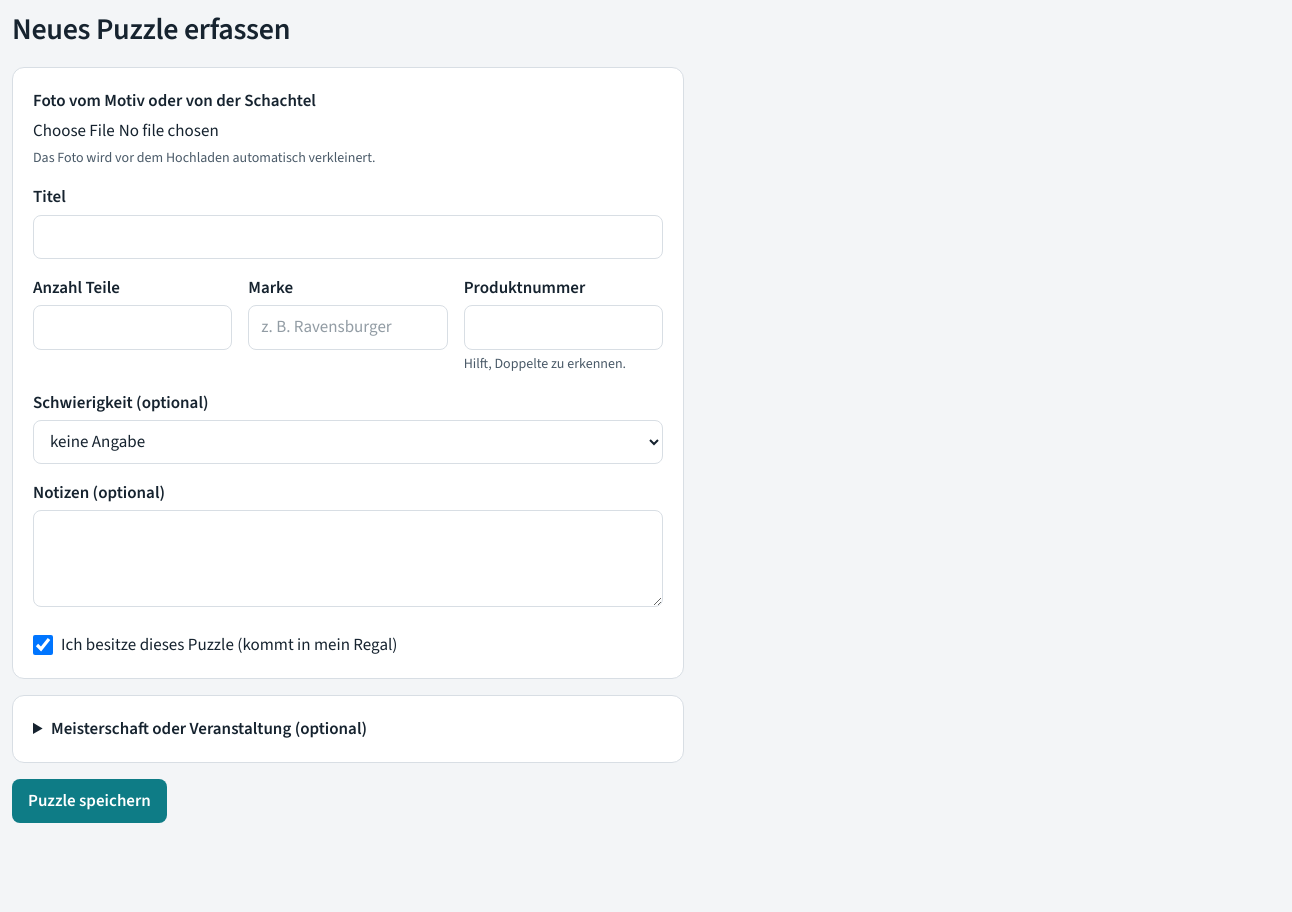
Scenario: Seiten (Rauchtest) › Neues Puzzle: bei ähnlichem Treffer erscheint die Doppelt-Warnung statt dem Speichern
Type "Alpenpanorama" into the field labelled "Titel" at (348, 237), box [33,214,663,259]
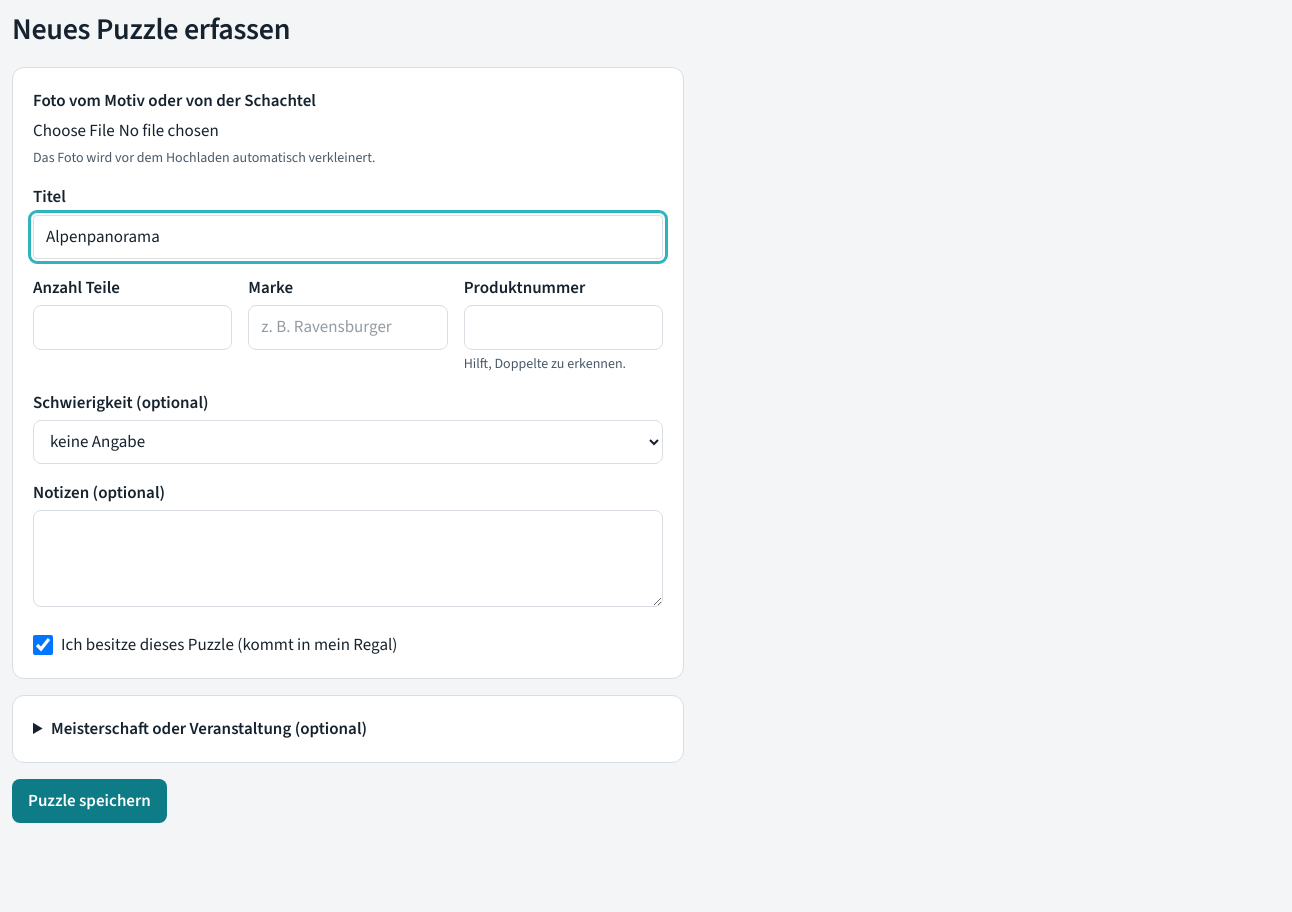
Type "1000" into the number field labelled "Anzahl Teile" at (133, 327), box [33,305,232,350]
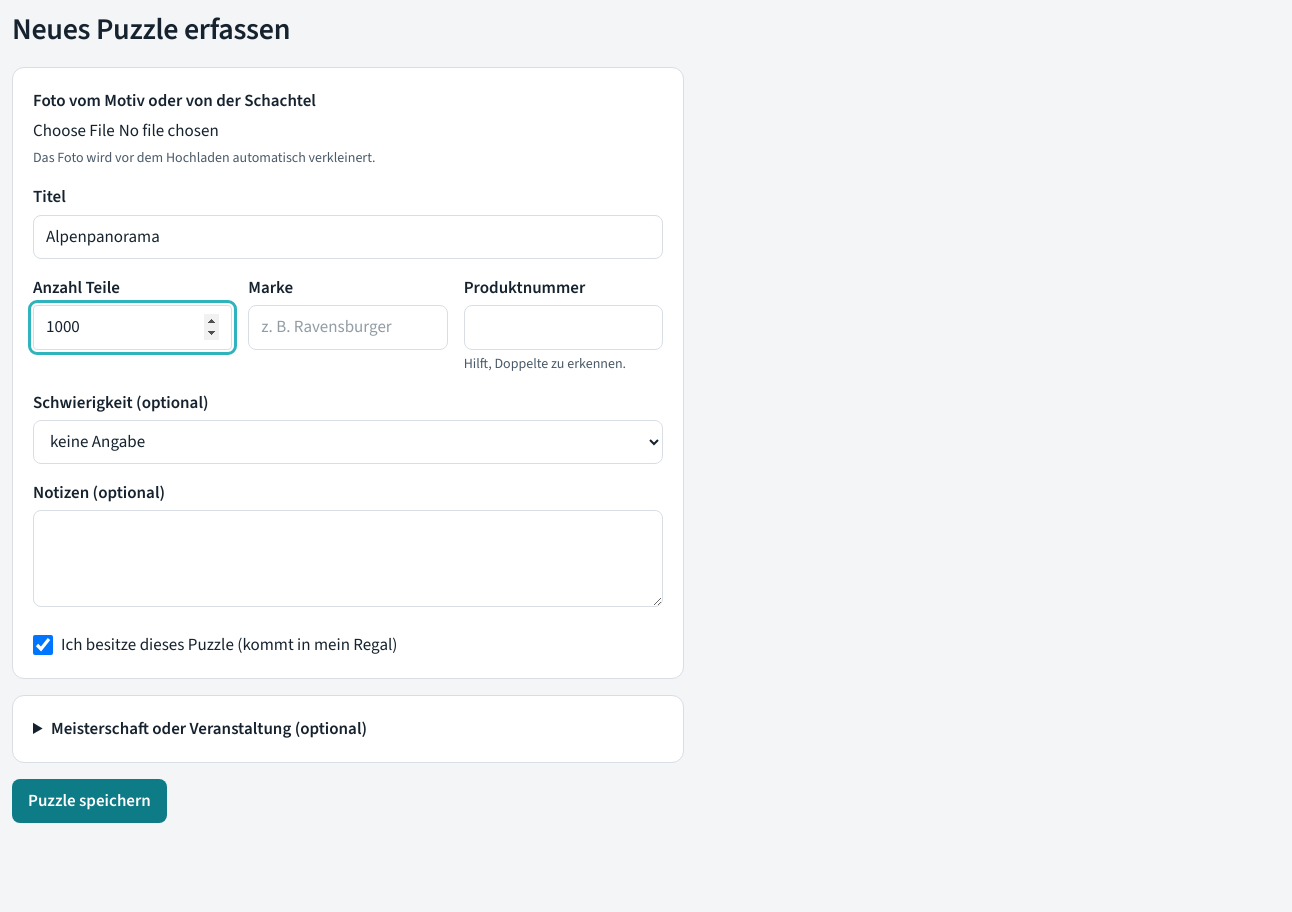
Click the button "Puzzle speichern" at (89, 801), box [12,779,167,823]
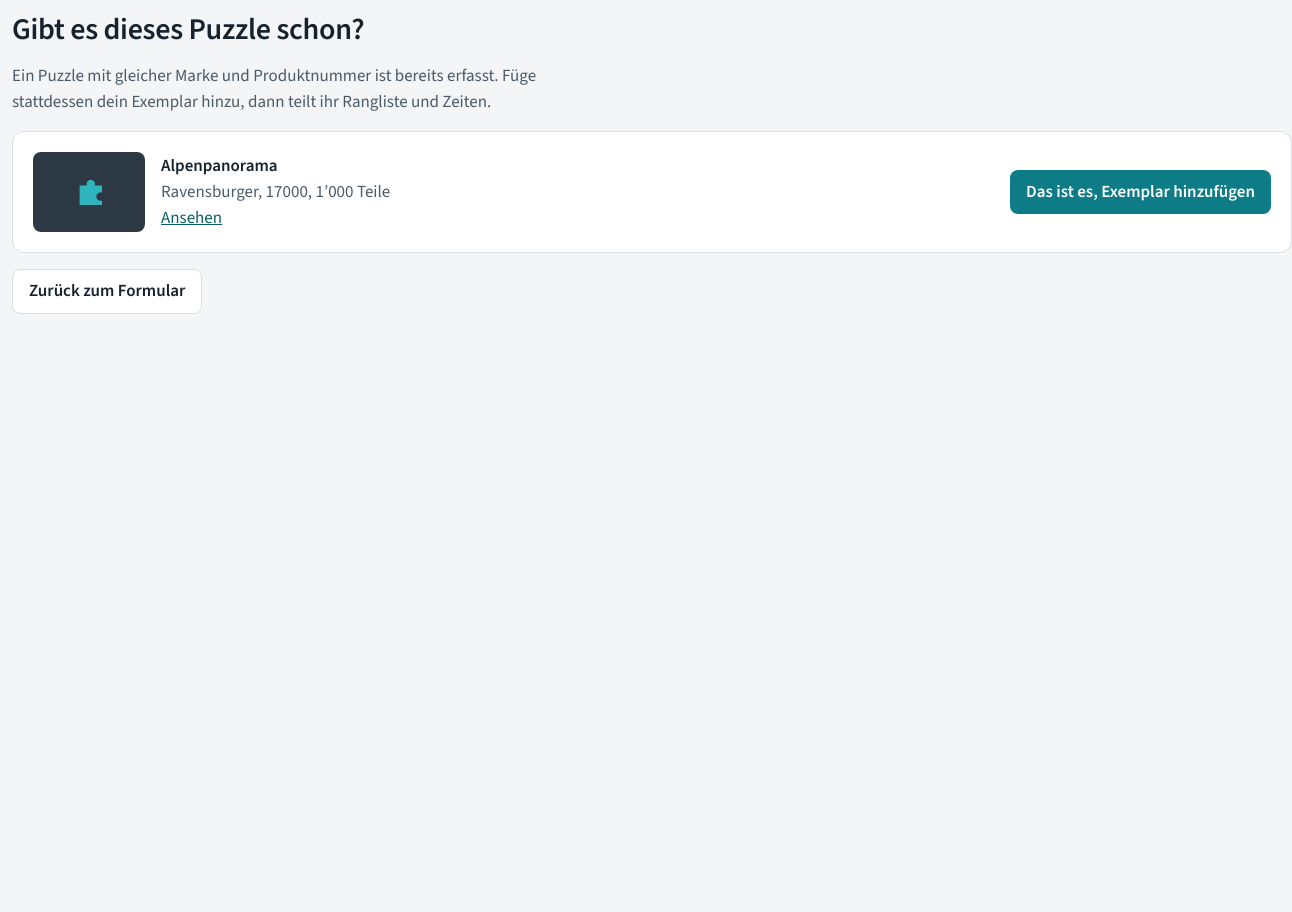
expect the button "Das ist es, Exemplar hinzufügen" is shown: met, box [1010,170,1271,214]
